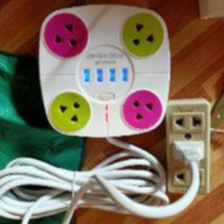three_eye_plug: (36, 1, 174, 140), (159, 95, 213, 198)
